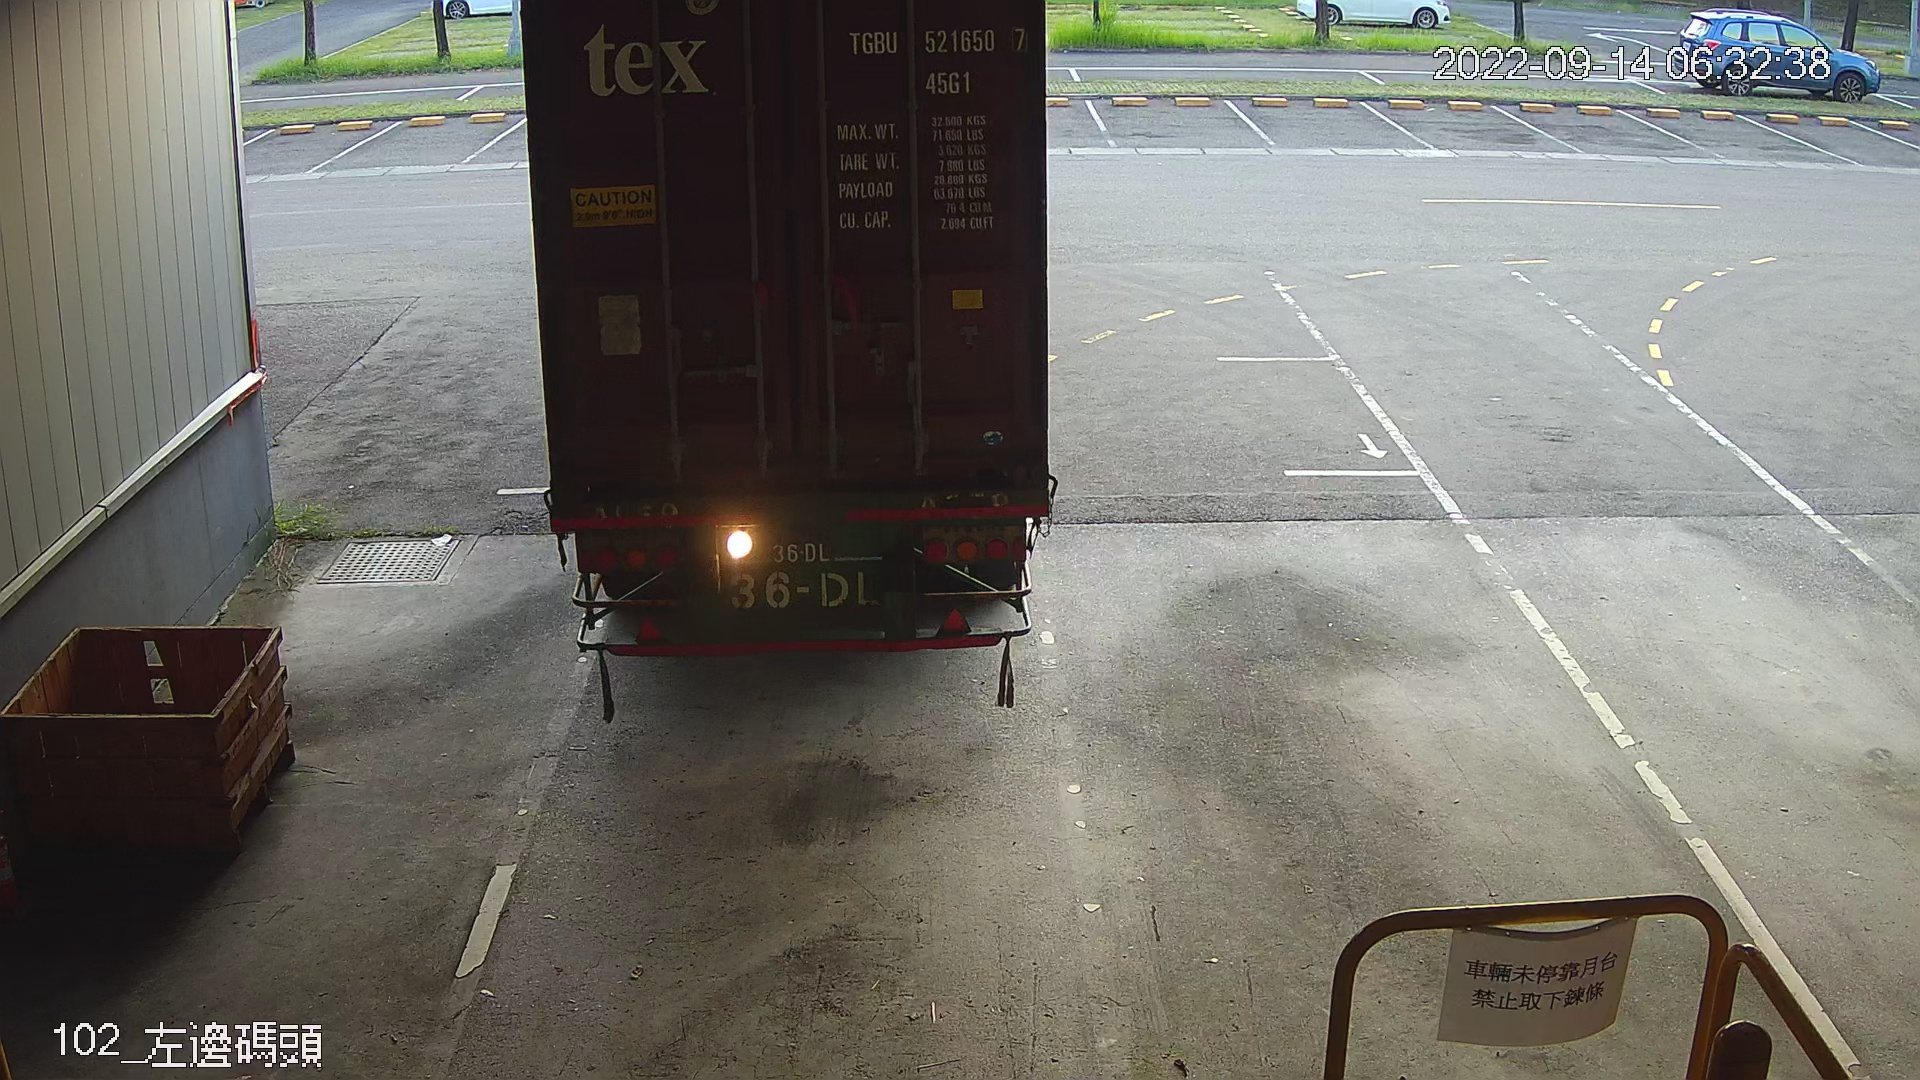container: (837, 17, 1034, 102)
